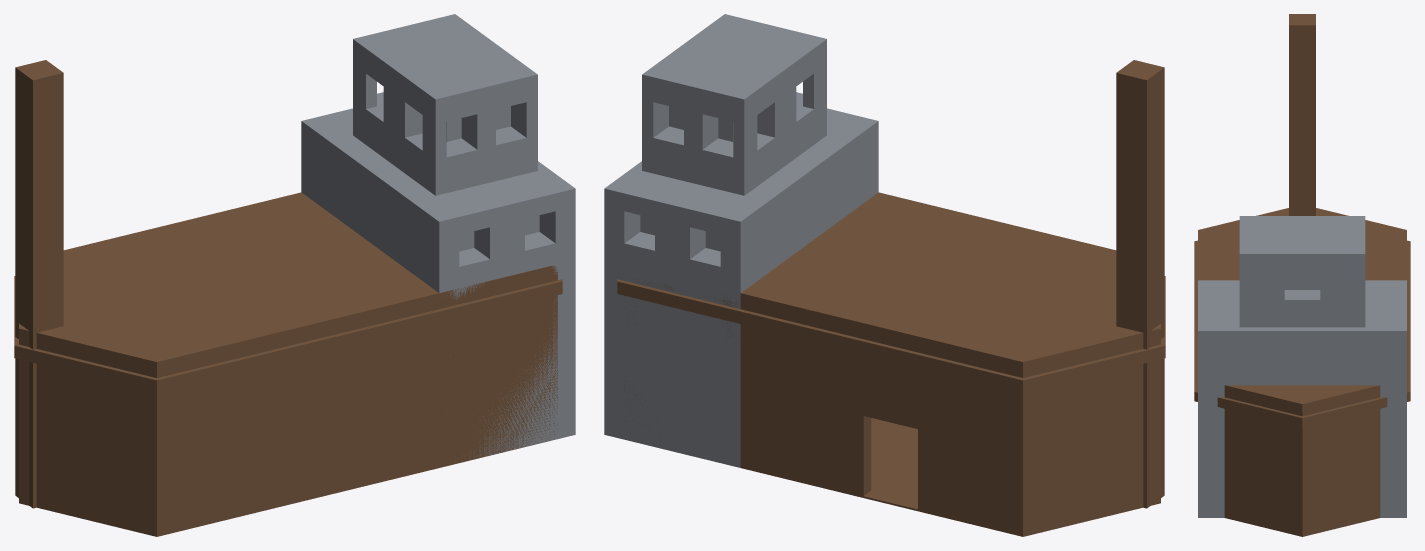
The picture shows the model from 3 angles, left to right: view 1: azimuth 30°, elevation 25°; view 2: azimuth 150°, elevation 25°; view 3: azimuth 270°, elevation 25°; orthographic projection. The views are drawn at different scales.
Parts seen in each view (by area): view 1: body_timber, body_metal, roof_timber, trim_timber; view 2: body_timber, body_metal, roof_timber, trim_timber; view 3: body_metal, body_timber, roof_timber, trim_timber.
Boxes of the visible parts, <box> form: body_timber: <box>15,60,557,536</box>; body_metal: <box>301,14,575,461</box>; roof_timber: <box>19,192,557,372</box>; trim_timber: <box>14,276,562,392</box>; body_timber: <box>624,60,1164,536</box>; body_metal: <box>604,14,878,467</box>; roof_timber: <box>669,192,1160,372</box>; trim_timber: <box>617,276,1165,392</box>; body_metal: <box>1198,216,1406,517</box>; body_timber: <box>1224,14,1380,536</box>; roof_timber: <box>1198,208,1406,412</box>; trim_timber: <box>1194,240,1410,427</box>.
Size of what is drawn, in the model's own units: 16.08 by 12 by 7.24.
